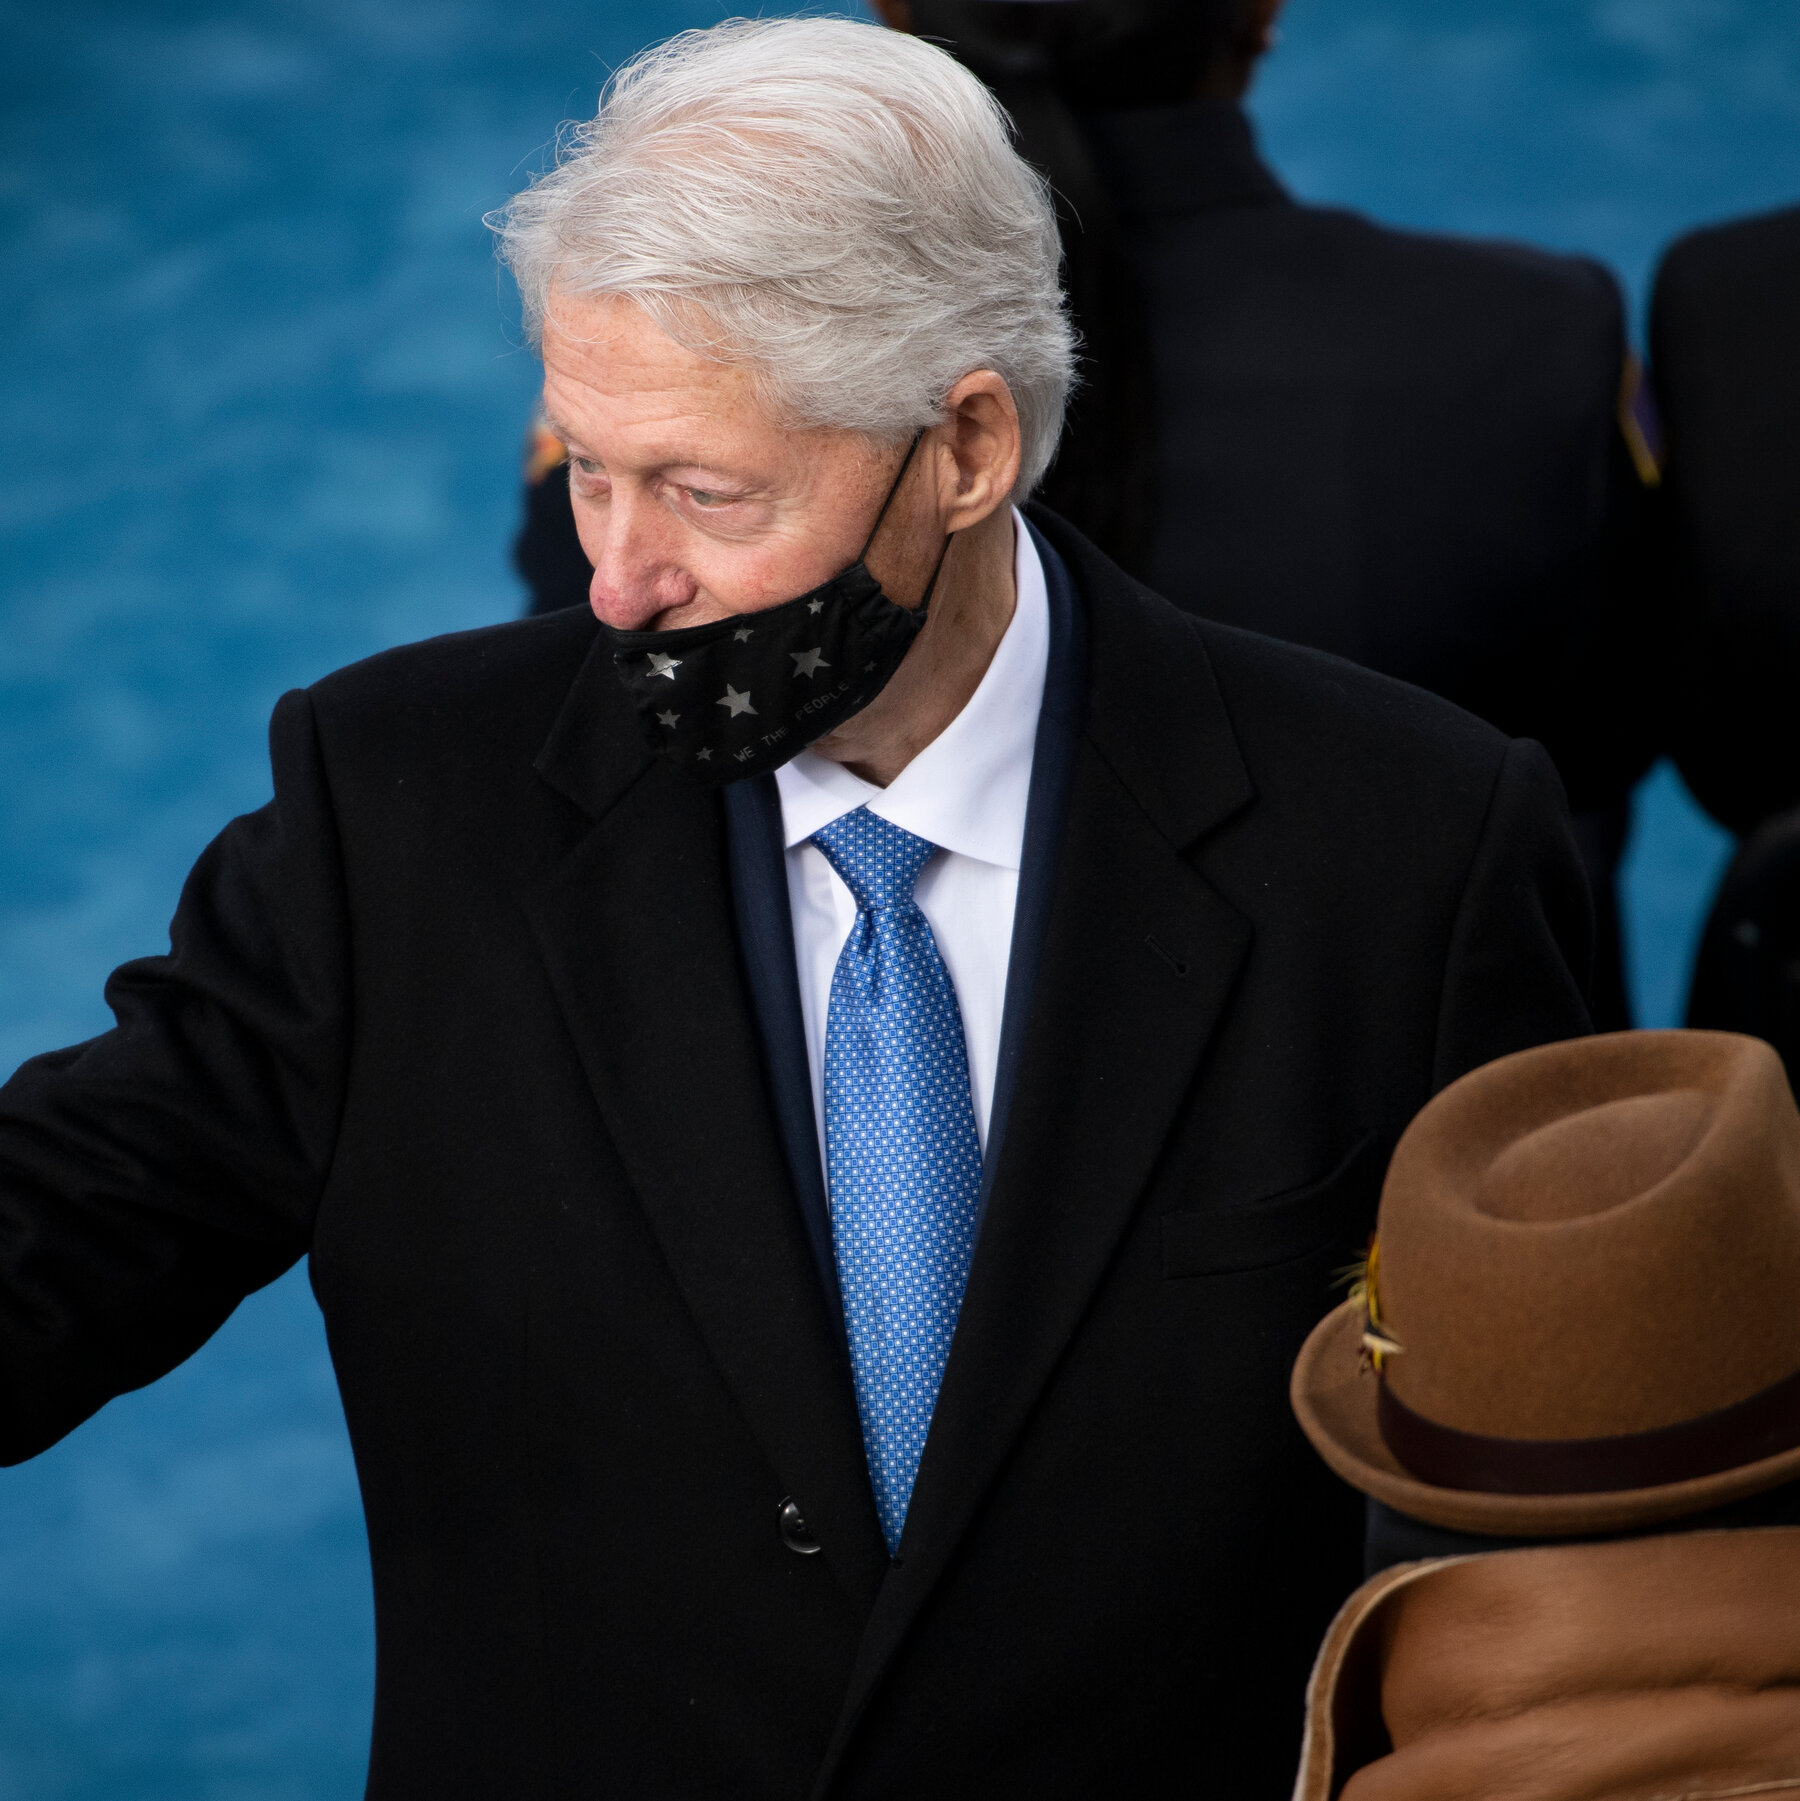with_incorrect_mask: (543, 358, 915, 772)
